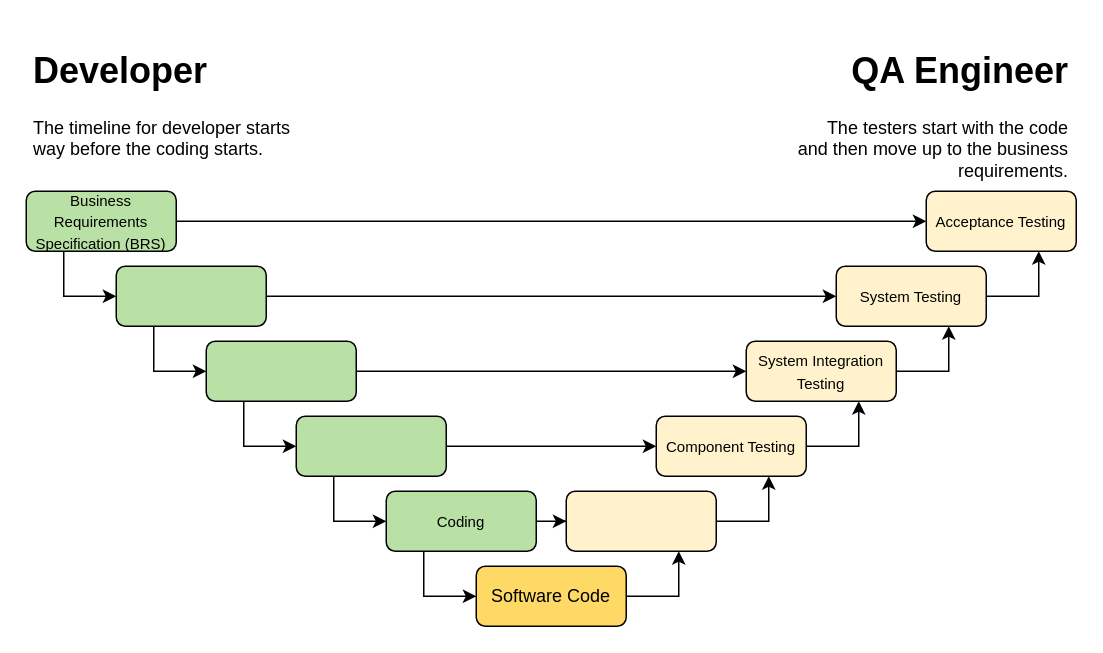
Some shapes in this 1103 by 653 pixel diagram are drawn without their labels. Each missing label, with the box of its shape:
High-Level Design (HLD): (205, 340, 356, 401)
Low-Level Design (LLD): (295, 415, 446, 476)
System Requirements Specification (SRS): (115, 265, 266, 326)
Unit Testing: (565, 490, 716, 551)
